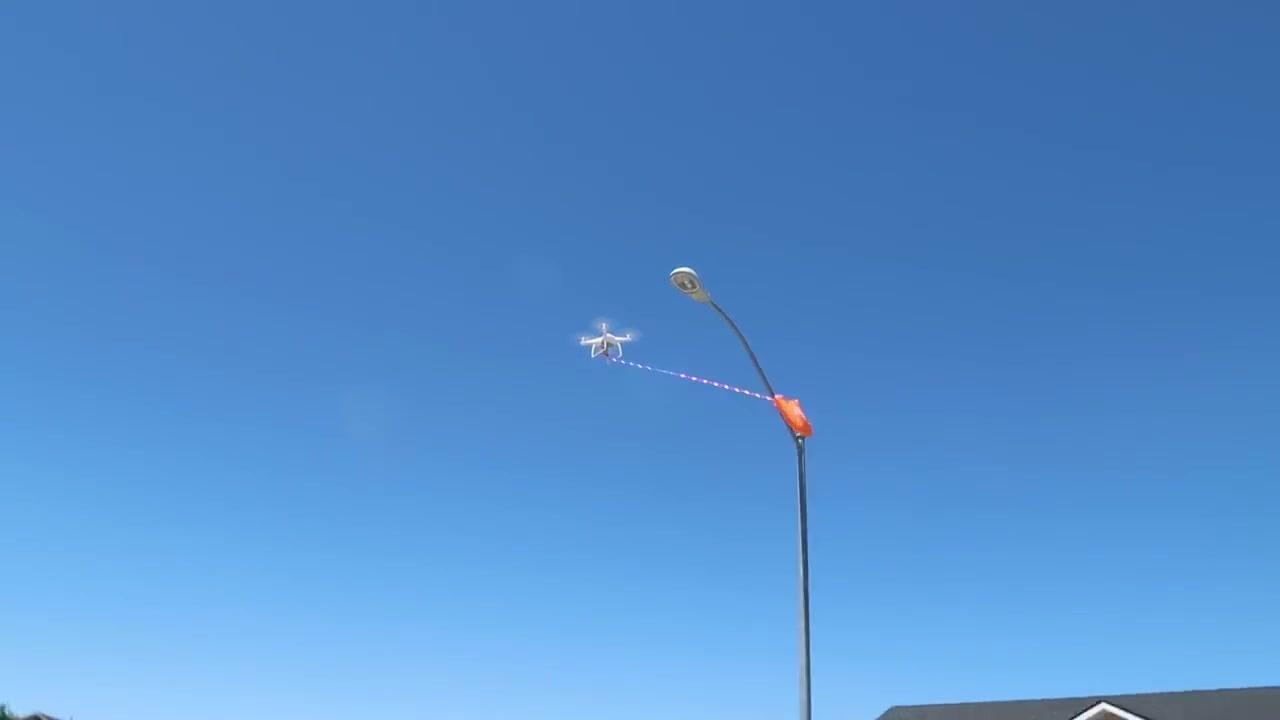UAV: (580, 323, 633, 365)
